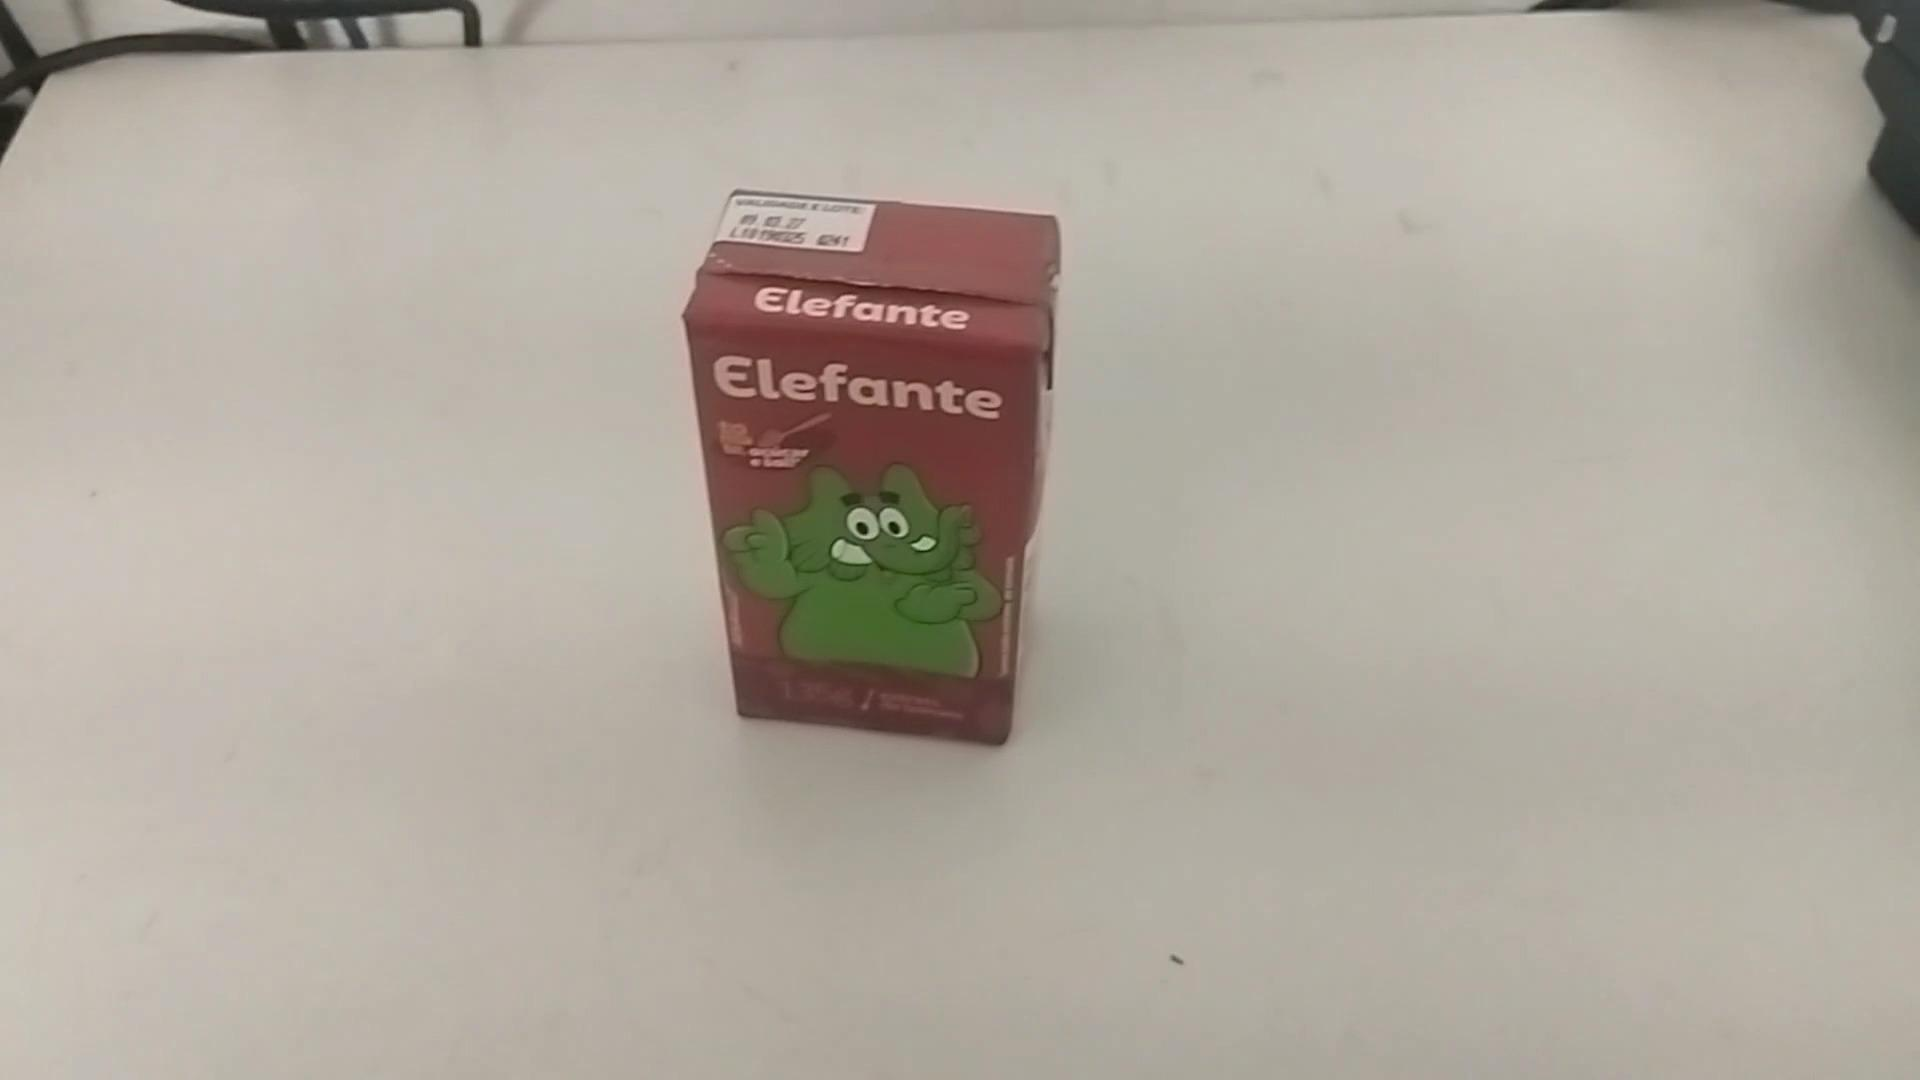tomate: (680, 190, 1077, 750)
